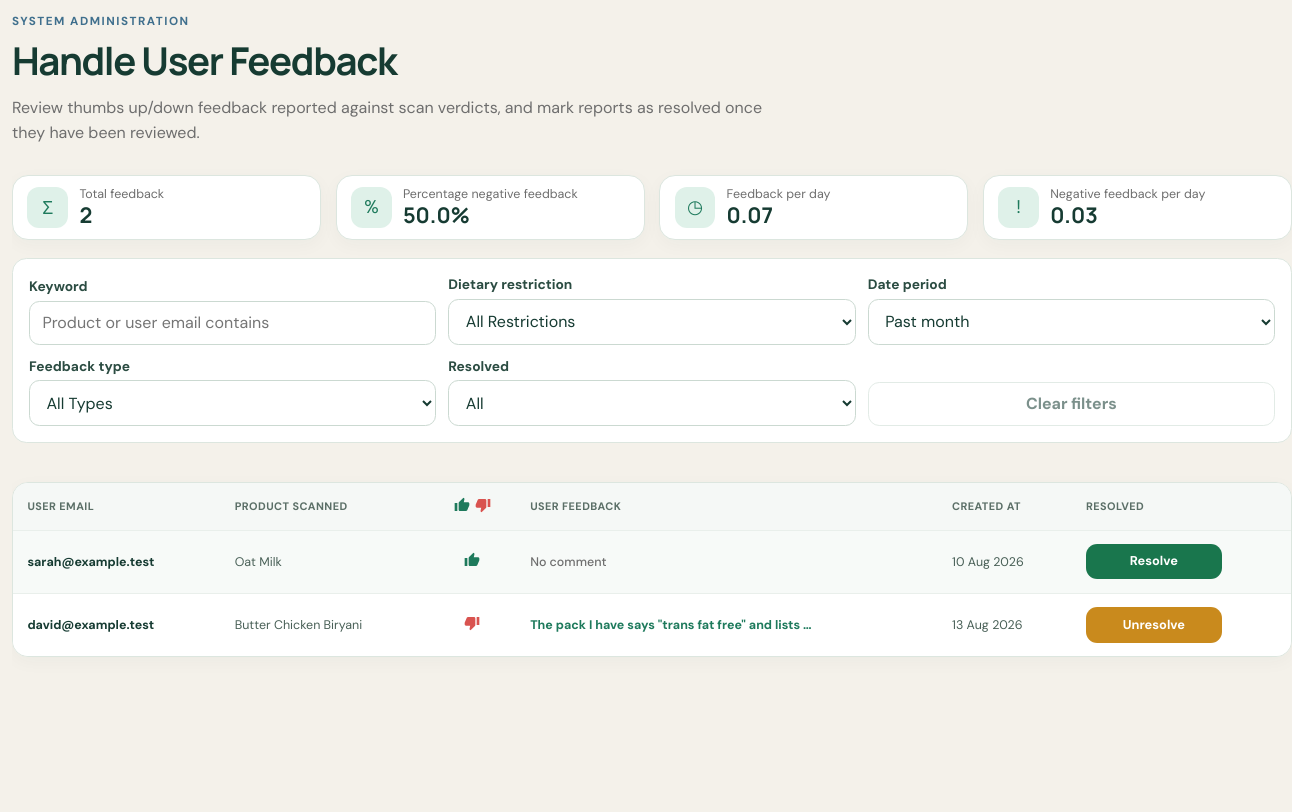
AdminScanFeedbackPage UC20 admin review › shows the full comment in a hover preview
Hover over the button "trans fat free": [674, 625] box [530,617,818,633]
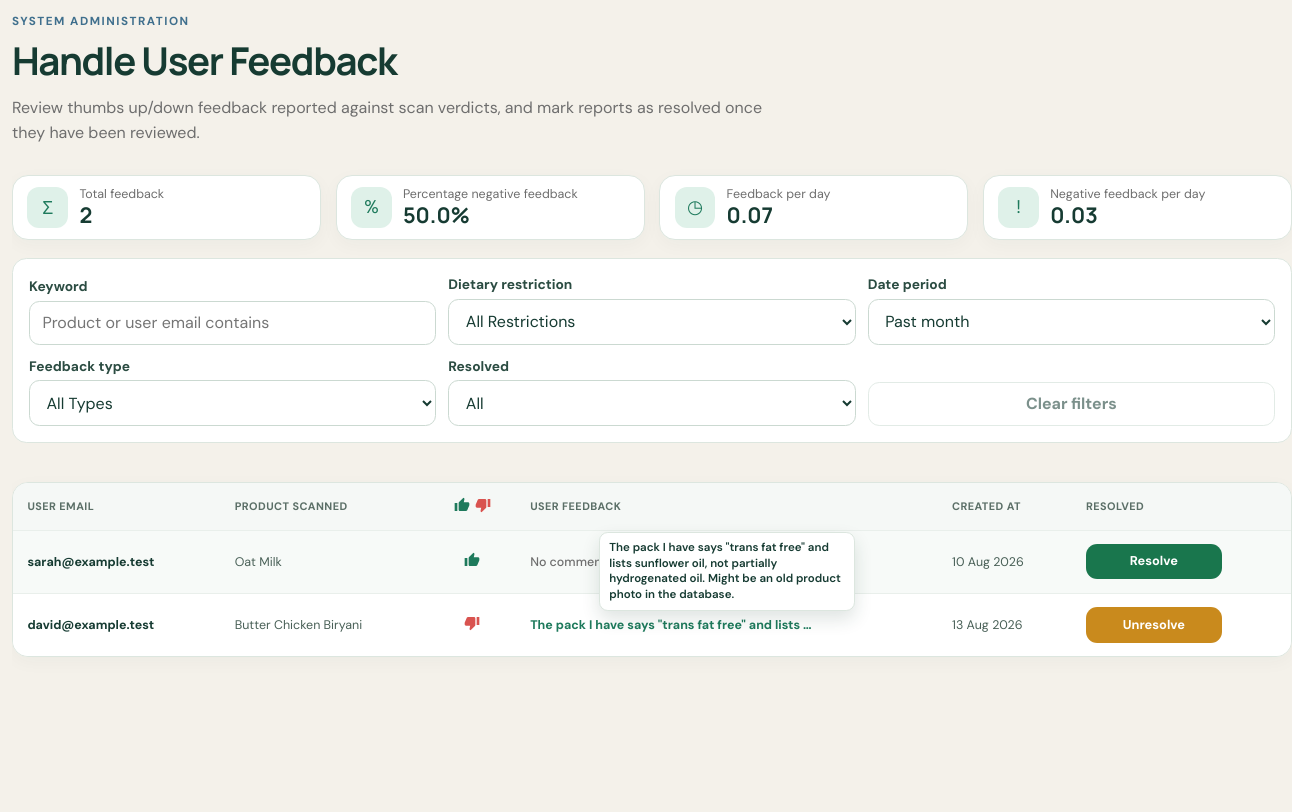
expect the tooltip shows "The pack I have says \"trans fat free\" and lists sunflower oil, not partially hydrogenated oil. Might be an old product photo in the database.": met, box [609,540,841,602]
